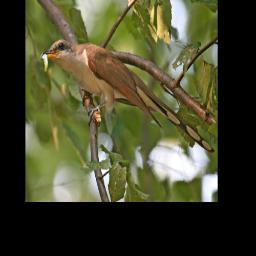Cuckoo: (37, 38, 216, 154)
